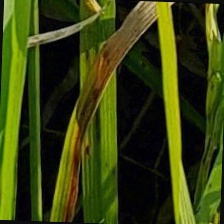Leaf_Blast: (59, 6, 145, 211)
